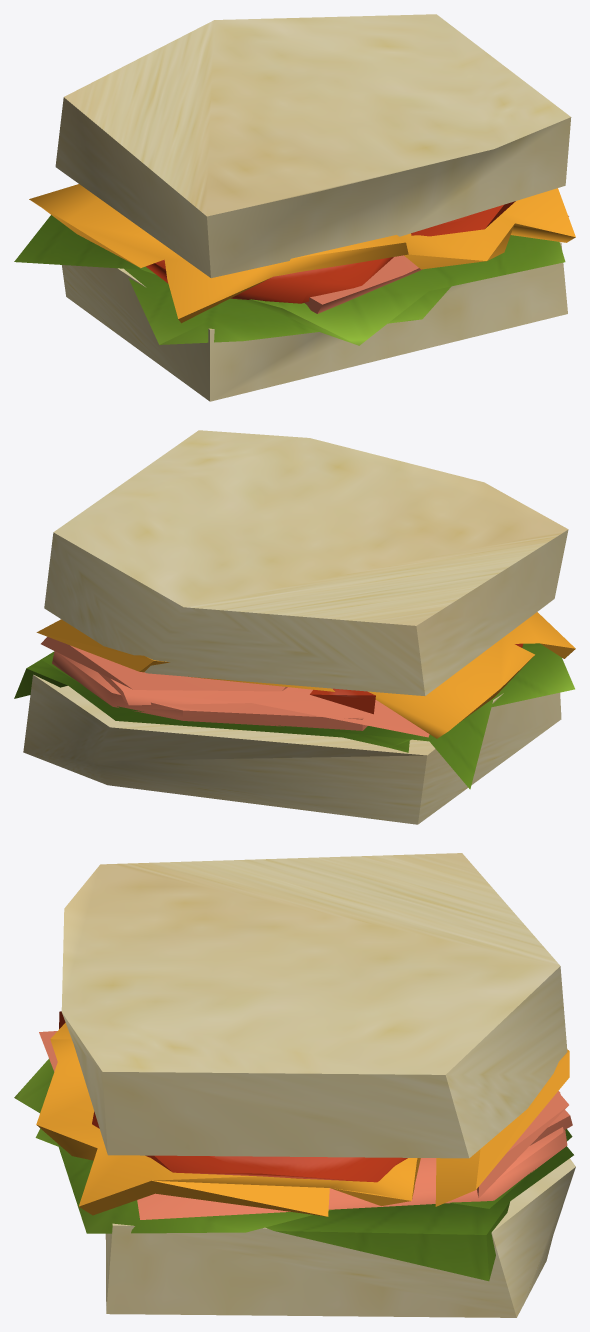
The model's file is Sandwich.fbx.
3 views of the same model, one above another, from view 1: azimuth 30°, elevation 25°; view 2: azimuth 150°, elevation 25°; view 3: azimuth 270°, elevation 25° (orthographic). The views are drawn at different scales.
Parts seen in each view (by area): view 1: sandwich_Part_5; view 2: sandwich_Part_5; view 3: sandwich_Part_5.
Boxes of the visible parts, left/top/right/bottom form: sandwich_Part_5: left=14, top=14, right=575, bottom=401; sandwich_Part_5: left=14, top=430, right=575, bottom=824; sandwich_Part_5: left=14, top=853, right=575, bottom=1317.
Bounding box in the file's own units: 0.1042 × 0.0455 × 0.0938.
